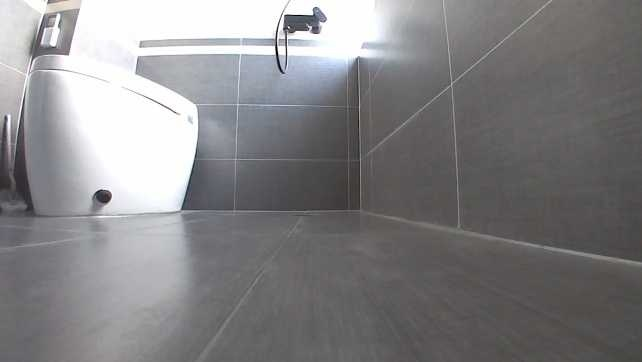toilet: (18, 53, 200, 220)
